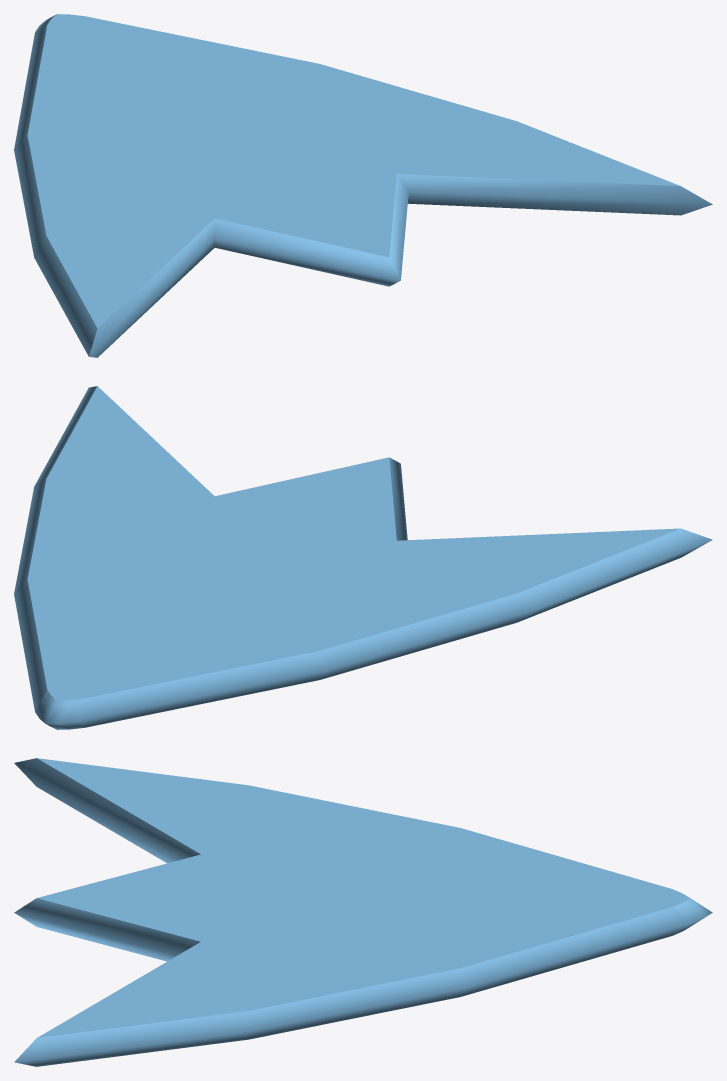
File: PLAYER.fbx
3 renders of one model, top to bottom at view 1: azimuth 30°, elevation 25°; view 2: azimuth 150°, elevation 25°; view 3: azimuth 270°, elevation 25°, orthographic.
Parts seen in each view (by area): view 1: PLAYER; view 2: PLAYER; view 3: PLAYER.
Boxes of the visible parts, left/top/right/bottom form: PLAYER: left=14, top=14, right=712, bottom=357; PLAYER: left=14, top=386, right=712, bottom=729; PLAYER: left=14, top=758, right=712, bottom=1066.
Bounding box in the file's own units: 4.46 × 0.2 × 4.4.
